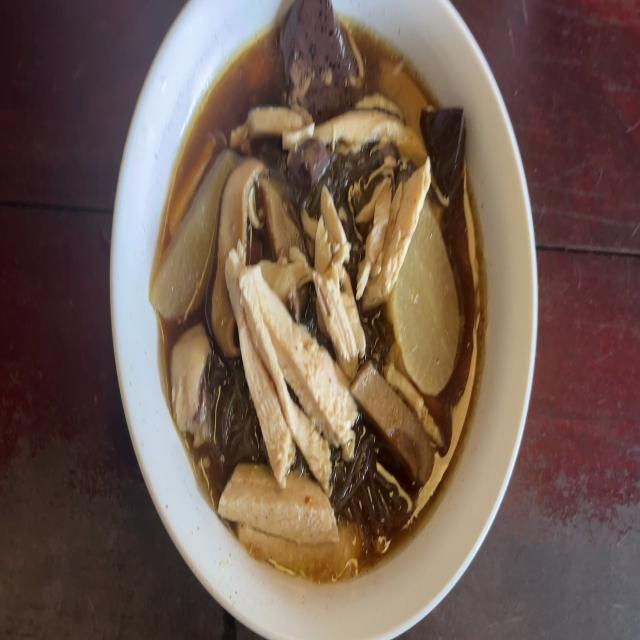boiled_chicken_blood_jelly: (279, 0, 352, 104), (428, 95, 470, 198), (292, 138, 325, 186)
chicken_shredded: (232, 249, 337, 458), (216, 462, 334, 538), (366, 162, 432, 294), (313, 189, 354, 361), (317, 105, 420, 147), (171, 326, 210, 426), (242, 104, 315, 145)
daikon_radish: (150, 152, 227, 314), (402, 228, 451, 386)
noodle: (159, 29, 489, 574)
